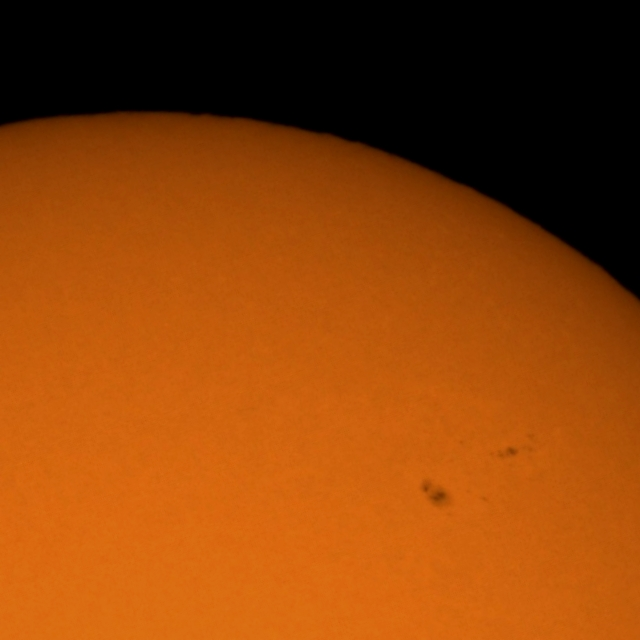sunspot: (488, 433, 540, 463), (419, 477, 450, 511), (488, 445, 520, 462)
